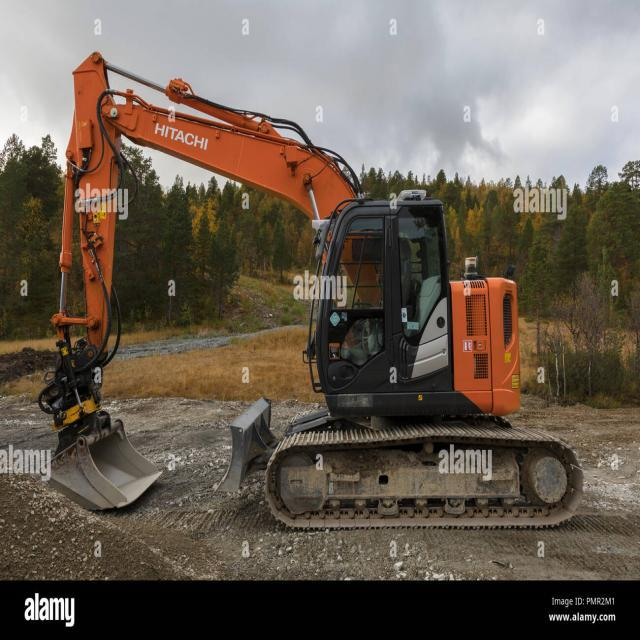C_E: (38, 51, 590, 530)
